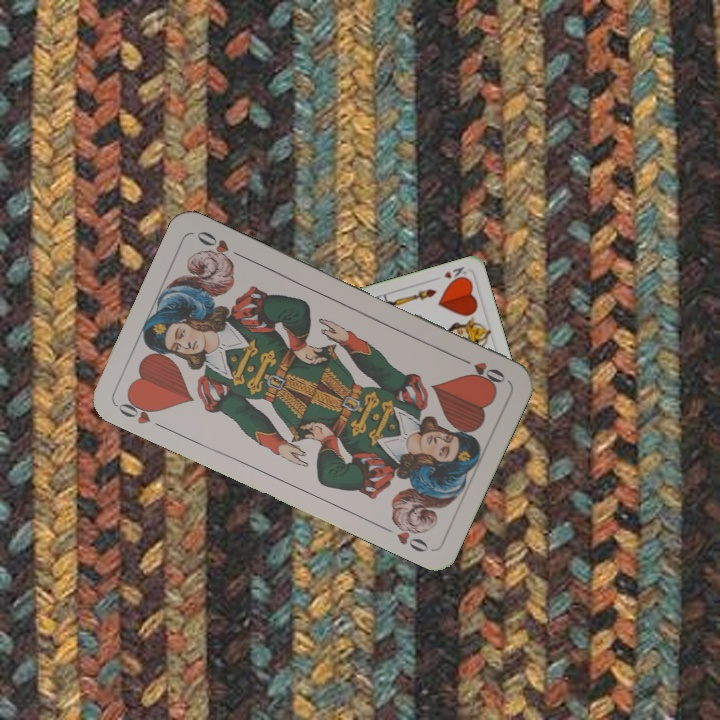HK: (439, 262, 469, 285)
HO: (114, 392, 168, 432), (454, 353, 509, 386)
